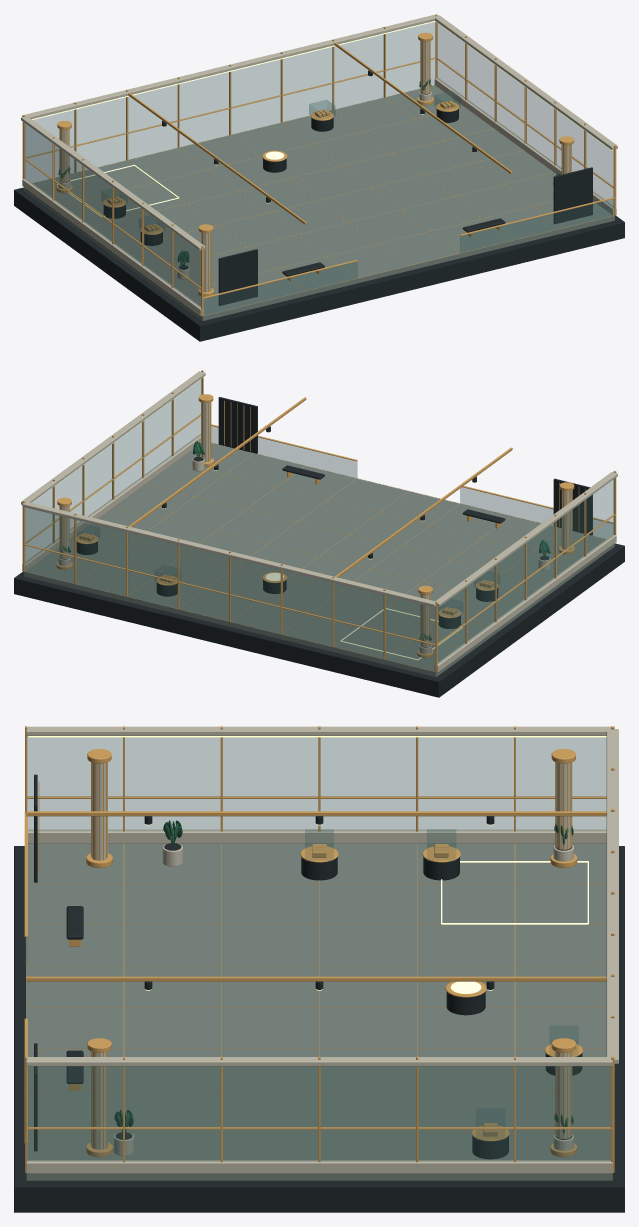
The model's file is world-1.glb.
The picture shows the model from 3 angles, top to bottom: view 1: azimuth 30°, elevation 25°; view 2: azimuth 150°, elevation 25°; view 3: azimuth 270°, elevation 25°; orthographic projection. The views are drawn at different scales.
Visible parts, largest first — view 1: World_FloorStone, World_Glass, World_Obsidian, World_ArchitecturalMetal, World_Architecture, World_WarmLight; view 2: World_FloorStone, World_Glass, World_Obsidian, World_ArchitecturalMetal, World_Architecture, World_WarmLight; view 3: World_FloorStone, World_Glass, World_Architecture, World_Obsidian, World_ArchitecturalMetal, World_WarmLight, World_Foliage.
Part boxes in pixels (left/top/right/bottom): World_FloorStone: left=24, top=85, right=614, bottom=321; World_Glass: left=24, top=22, right=613, bottom=315; World_Obsidian: left=14, top=70, right=624, bottom=341; World_ArchitecturalMetal: left=22, top=14, right=616, bottom=316; World_Architecture: left=21, top=14, right=617, bottom=316; World_WarmLight: left=32, top=21, right=612, bottom=216; World_FloorStone: left=24, top=443, right=614, bottom=677; World_Glass: left=25, top=379, right=614, bottom=671; World_Obsidian: left=14, top=397, right=624, bottom=697; World_ArchitecturalMetal: left=22, top=370, right=616, bottom=672; World_Architecture: left=21, top=371, right=617, bottom=672; World_WarmLight: left=32, top=377, right=476, bottom=660; World_FloorStone: left=26, top=843, right=612, bottom=1180; World_Glass: left=25, top=736, right=610, bottom=1161; World_Architecture: left=26, top=726, right=618, bottom=1173; World_Obsidian: left=14, top=774, right=624, bottom=1212; World_ArchitecturalMetal: left=24, top=726, right=614, bottom=1172; World_WarmLight: left=28, top=736, right=606, bottom=993; World_Foliage: left=114, top=820, right=573, bottom=1133.
Size of the model in its own units: 33 by 6.8 by 25.
